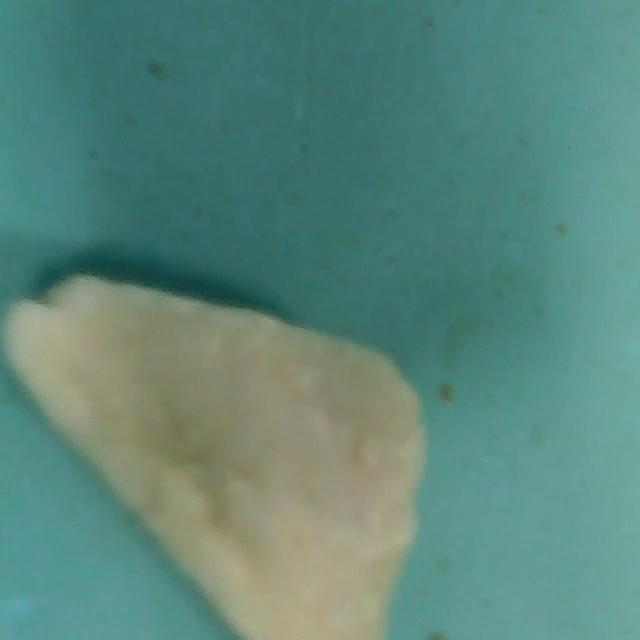rock: (3, 264, 432, 640)
